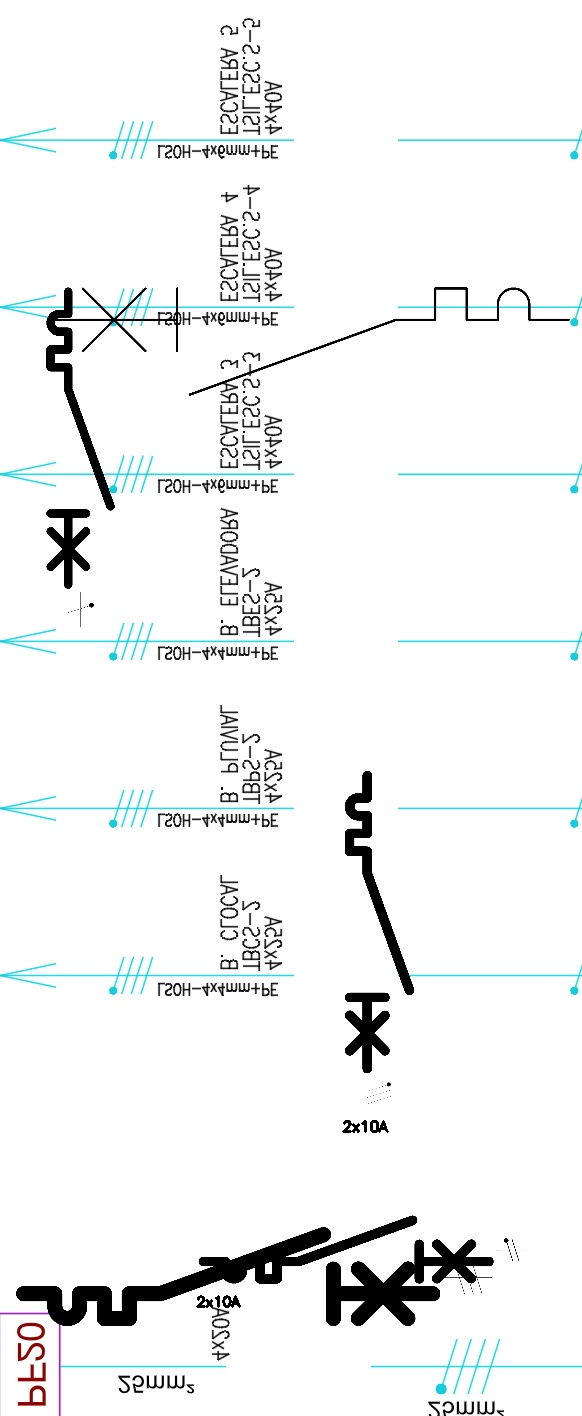interruptor_termomagnetico: (38, 275, 582, 408), (13, 1224, 443, 1329), (342, 768, 417, 1076), (43, 284, 118, 592), (196, 1213, 496, 1286)
